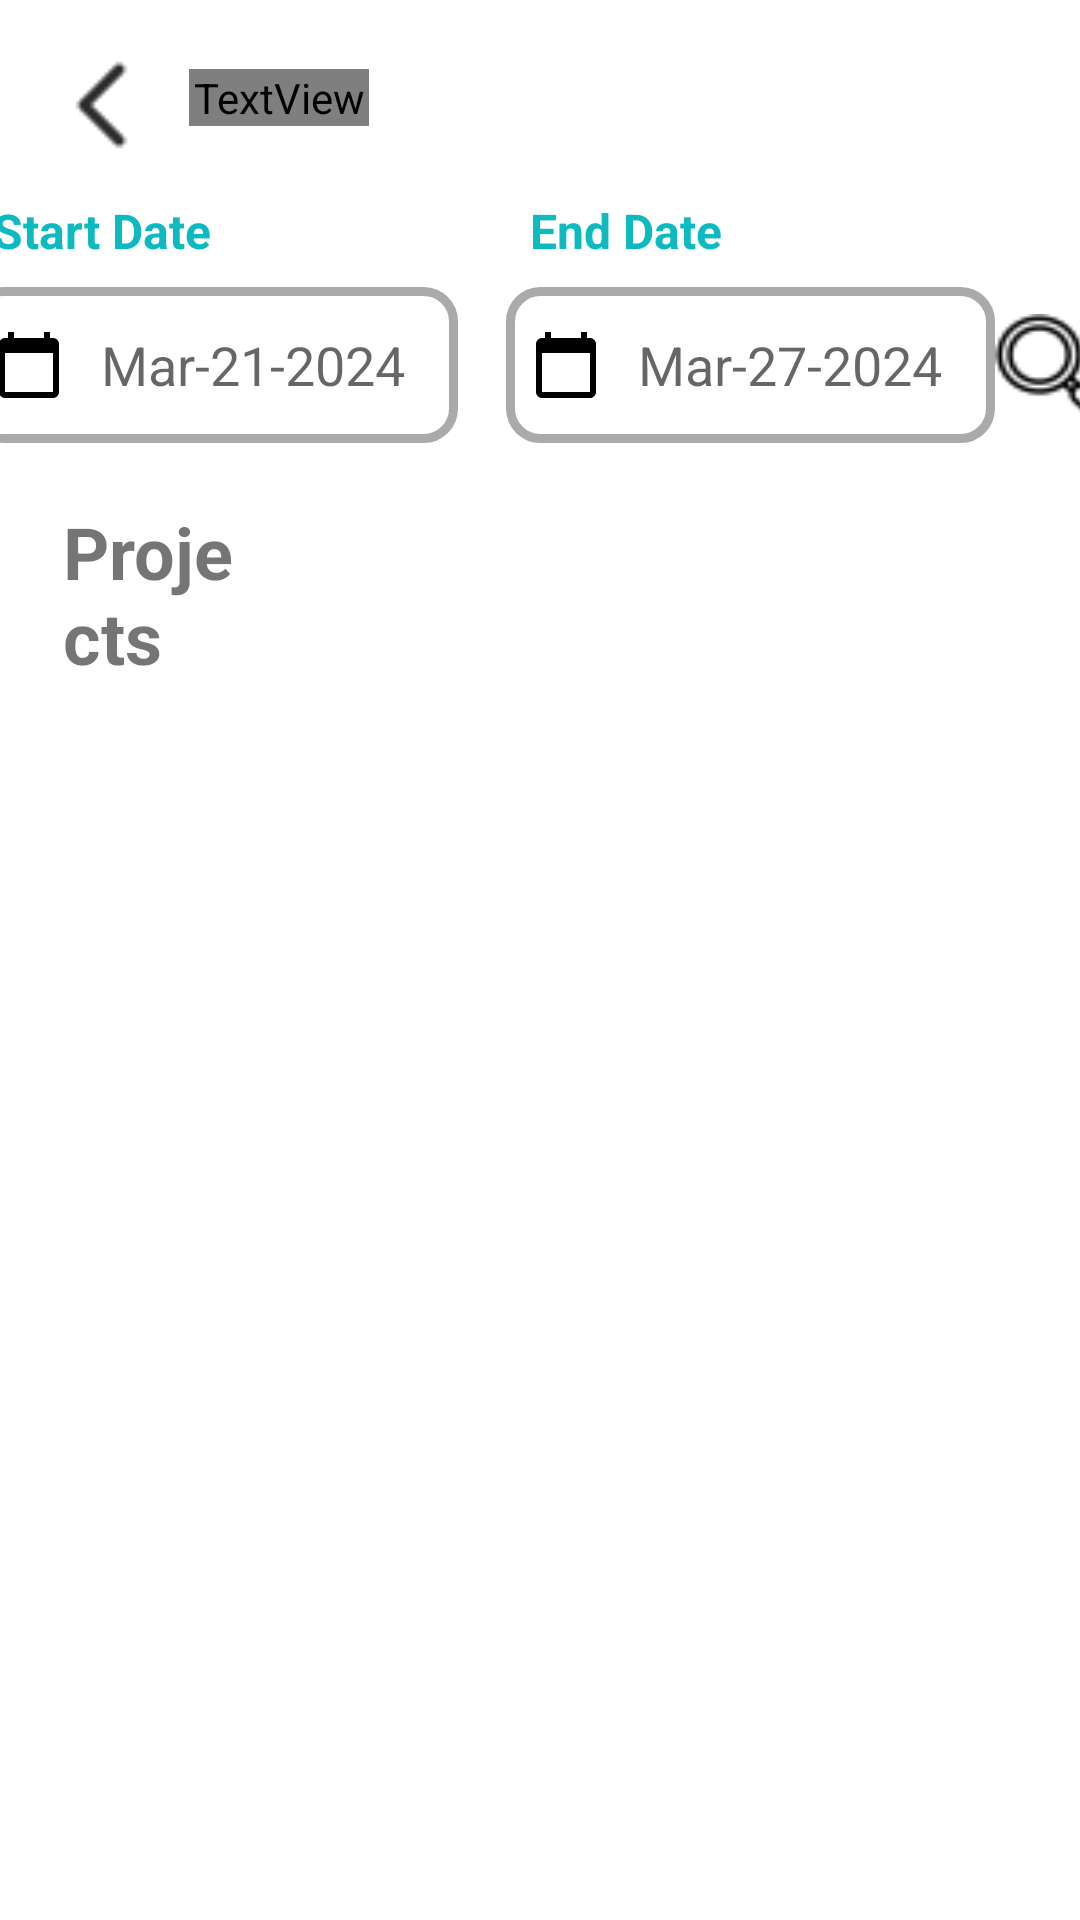

Named icons in this screenshot (1080*1920) and their bounding boxes, (x1, y1, x2, y2):
back: (76, 62, 127, 148)
